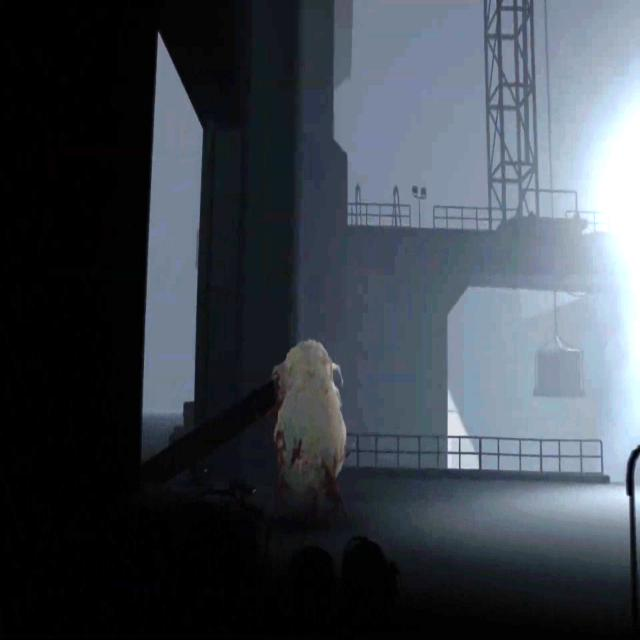blob: (274, 339, 349, 506)
structure: (483, 0, 536, 233), (346, 432, 604, 471), (432, 202, 524, 228), (348, 205, 413, 226)
